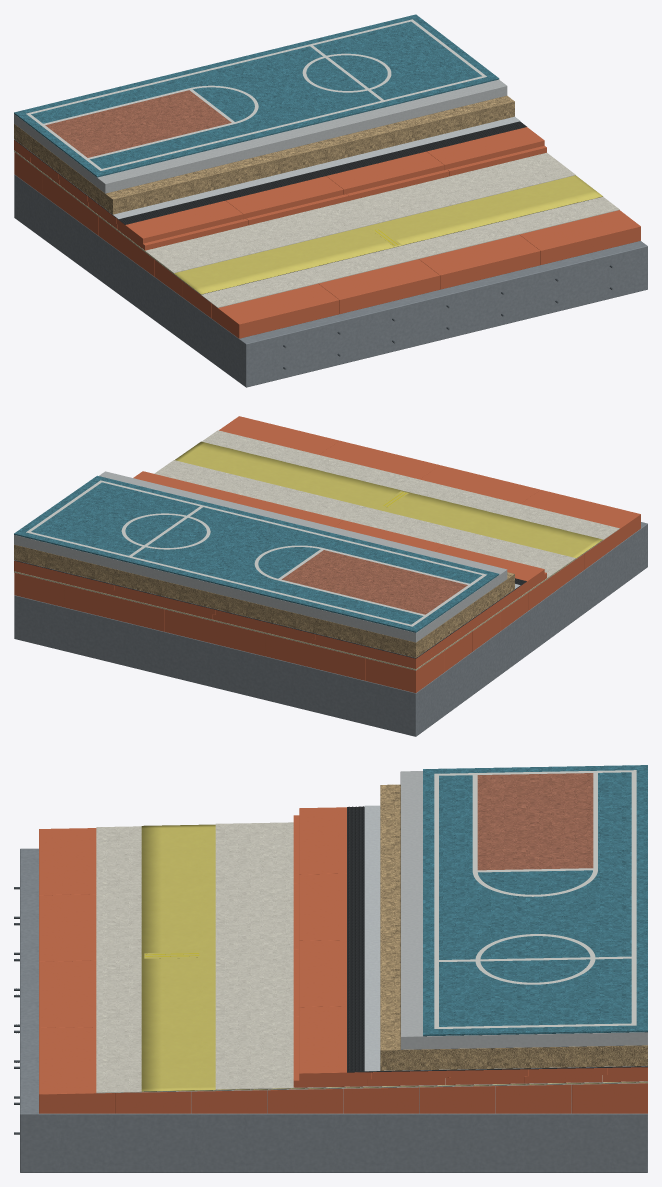
The model's file is invers-sport-court-optimized.glb.
3 views of the same model, one above another, from view 1: azimuth 30°, elevation 25°; view 2: azimuth 150°, elevation 25°; view 3: azimuth 270°, elevation 25° (orthographic). The views are drawn at different scales.
Parts seen in each view (by area): view 1: 12_Железобетонная плита, Резиновое покрытие · EPDM, PLASTFOIL CANVAS · над мембраной, 07_Сигнальная жёлтая поверхность GEO, Песчаная подготовка, Распределительная цементно-песча, PLASTFOIL CANVAS · под мембраной, Терракотовая штрафная зона, ПЕНОПЛЭКС УКЛОН · плита 1.1, ПЕНОПЛЭКС УКЛОН · плита 1.2, ПЕНОПЛЭКС УКЛОН · плита 1.3, ПЕНОПЛЭКС УКЛОН · плита 1.4 (+15 smaller); view 2: 12_Железобетонная плита, Резиновое покрытие · EPDM, 07_Сигнальная жёлтая поверхность GEO, PLASTFOIL CANVAS · над мембраной, Песчаная подготовка, Распределительная цементно-песча, PLASTFOIL CANVAS · под мембраной, Терракотовая штрафная зона, ПЕНОПЛЭКС УКЛОН · плита 1.1, ПЕНОПЛЭКС УКЛОН · плита 8.3, ПЕНОПЛЭКС УКЛОН · плита 8.2, ПЕНОПЛЭКС УКЛОН · плита 8.4 (+23 smaller); view 3: Резиновое покрытие · EPDM, 12_Железобетонная плита, PLASTFOIL CANVAS · над мембраной, 07_Сигнальная жёлтая поверхность GEO, PLASTFOIL CANVAS · под мембраной, Песчаная подготовка, Терракотовая штрафная зона, Распределительная цементно-песча, ПЕНОПЛЭКС УКЛОН · плита 1.4, PLASTGUARD GEO · прикреплённый геотексти, 03_XPS_00_03 | цельная L-кромка, ПЕНОПЛЭКС УКЛОН · плита 1.2 (+22 smaller).
Boxes of the visible parts, <box> form: 12_Железобетонная плита: <box>14,174,647,387</box>; Резиновое покрытие · EPDM: <box>14,14,499,177</box>; PLASTFOIL CANVAS · над мембраной: <box>14,150,575,273</box>; 07_Сигнальная жёлтая поверхность GEO: <box>15,151,602,294</box>; Песчаная подготовка: <box>14,95,514,214</box>; Распределительная цементно-песча: <box>14,79,507,193</box>; PLASTFOIL CANVAS · под мембраной: <box>14,151,619,307</box>; Терракотовая штрафная зона: <box>45,90,231,157</box>; ПЕНОПЛЭКС УКЛОН · плита 1.1: <box>211,283,339,338</box>; ПЕНОПЛЭКС УКЛОН · плита 1.2: <box>318,259,439,313</box>; ПЕНОПЛЭКС УКЛОН · плита 1.3: <box>419,234,540,289</box>; ПЕНОПЛЭКС УКЛОН · плита 1.4: <box>519,210,640,264</box>; 12_Железобетонная плита: <box>14,522,647,736</box>; Резиновое покрытие · EPDM: <box>14,475,499,632</box>; 07_Сигнальная жёлтая поверхность GEO: <box>14,441,602,669</box>; PLASTFOIL CANVAS · над мембраной: <box>14,460,575,669</box>; Песчаная подготовка: <box>14,544,514,657</box>; Распределительная цементно-песча: <box>14,471,507,642</box>; PLASTFOIL CANVAS · под мембраной: <box>14,430,619,670</box>; Терракотовая штрафная зона: <box>281,550,467,614</box>; ПЕНОПЛЭКС УКЛОН · плита 1.1: <box>520,490,640,548</box>; ПЕНОПЛЭКС УКЛОН · плита 8.3: <box>165,609,265,656</box>; ПЕНОПЛЭКС УКЛОН · плита 8.2: <box>265,634,365,680</box>; ПЕНОПЛЭКС УКЛОН · плита 8.4: <box>64,585,164,631</box>; Резиновое покрытие · EPDM: <box>423,765,647,1036</box>; 12_Железобетонная плита: <box>20,848,647,1172</box>; PLASTFOIL CANVAS · над мембраной: <box>215,822,647,1089</box>; 07_Сигнальная жёлтая поверхность GEO: <box>141,824,647,1091</box>; PLASTFOIL CANVAS · под мембраной: <box>96,826,647,1093</box>; Песчаная подготовка: <box>380,784,647,1070</box>; Терракотовая штрафная зона: <box>477,773,593,870</box>; Распределительная цементно-песча: <box>400,771,647,1049</box>; ПЕНОПЛЭКС УКЛОН · плита 1.4: <box>39,1027,114,1113</box>; PLASTGUARD GEO · прикреплённый геотексти: <box>364,805,647,1071</box>; 03_XPS_00_03 | цельная L-кромка: <box>293,1006,371,1087</box>; ПЕНОПЛЭКС УКЛОН · плита 1.2: <box>39,894,96,961</box>.
Bounding box in the file's own units: 4.8 × 1.2 × 4.85.
Materials: 15 (10 with a texture image).
